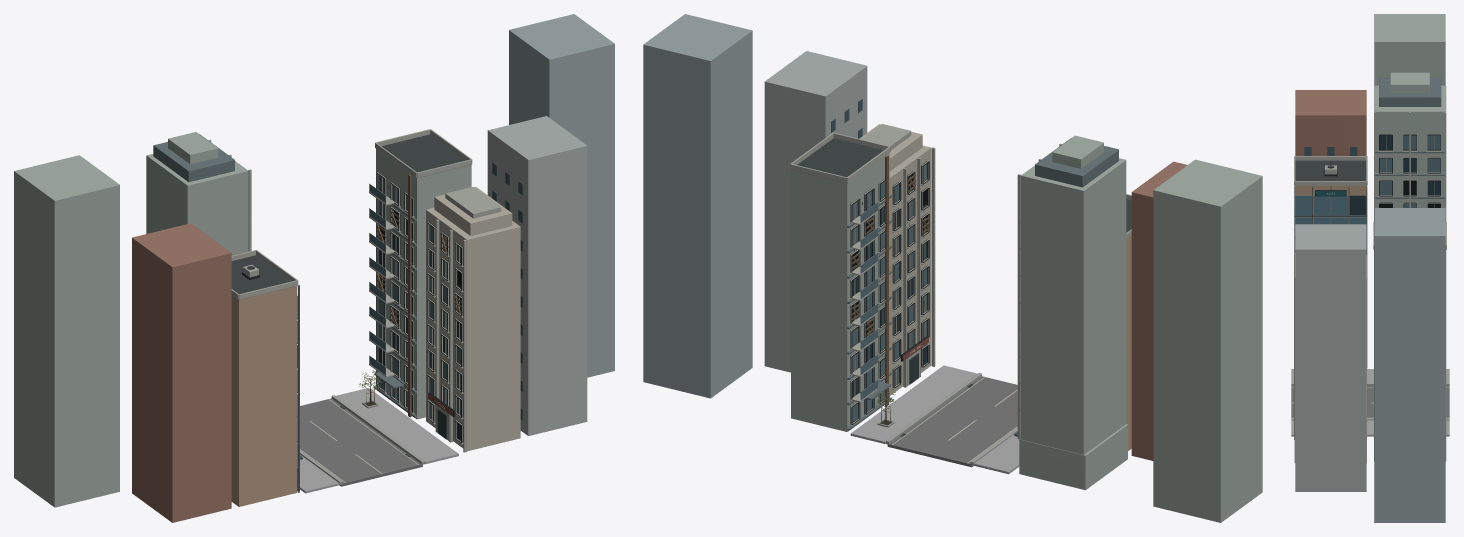
The model's file is city_hd_07.glb.
3 renders of one model, left to right at view 1: azimuth 30°, elevation 25°; view 2: azimuth 150°, elevation 25°; view 3: azimuth 270°, elevation 25°, orthographic. The views are drawn at different scales.
Parts seen in each view (by area): view 1: CITY_realwall_a3aea6, Background city building, Background city building.002, Background city building.003, CITY_sign_red, Office core, CITY_ac_paint, CITY_PBR_asphalt, CITY_recess, CITY_PBR_pavement, CITY_frame, CITY_glass (+5 smaller); view 2: CITY_realwall_a3aea6, Background city building.003, Background city building.002, CITY_ac_paint, Background city building, CITY_PBR_asphalt, CITY_recess, CITY_sign_red, CITY_PBR_pavement, CITY_frame, CITY_glass, CITY_modern_panel (+5 smaller); view 3: Background city building.003, Background city building.002, CITY_realwall_a3aea6, Background city building, CITY_ac_paint, CITY_modern_panel, CITY_office_glass, CITY_roof, CITY_glass, CITY_glass_dark, Office core, CITY_recess (+7 smaller).
Part boxes in pixels (x1,y1,x2,y2): CITY_realwall_a3aea6: (14,132,471,507); Background city building: (132,223,231,522); Background city building.002: (487,116,587,435); Background city building.003: (509,14,614,377); CITY_sign_red: (426,187,520,451); Office core: (231,286,297,506); CITY_ac_paint: (208,129,501,452); CITY_PBR_asphalt: (297,398,422,486); CITY_recess: (376,173,463,443); CITY_PBR_pavement: (297,388,458,493); CITY_frame: (377,172,462,443); CITY_glass: (369,175,460,420); CITY_realwall_a3aea6: (791,135,1262,522); Background city building.003: (643,14,752,398); Background city building.002: (764,51,867,372); CITY_ac_paint: (790,124,1131,439); Background city building: (1131,161,1187,460); CITY_PBR_asphalt: (887,376,1017,467); CITY_recess: (850,161,929,424); CITY_sign_red: (859,124,931,395); CITY_PBR_pavement: (850,365,1019,474); CITY_frame: (850,160,929,425); CITY_glass: (852,164,927,422); CITY_modern_panel: (847,138,1118,437); Background city building.003: (1374,208,1445,522); Background city building.002: (1295,224,1366,491); CITY_realwall_a3aea6: (1374,14,1446,461); Background city building: (1295,90,1366,155); CITY_ac_paint: (1294,112,1446,439); CITY_modern_panel: (1375,77,1444,198); CITY_office_glass: (1295,195,1366,224); CITY_roof: (1295,160,1366,180); CITY_glass: (1379,135,1440,207); CITY_glass_dark: (1349,135,1440,214); Office core: (1295,186,1366,252); CITY_recess: (1379,134,1440,207).
Bounding box in the file's own units: 57.3 × 32.26 × 16.
